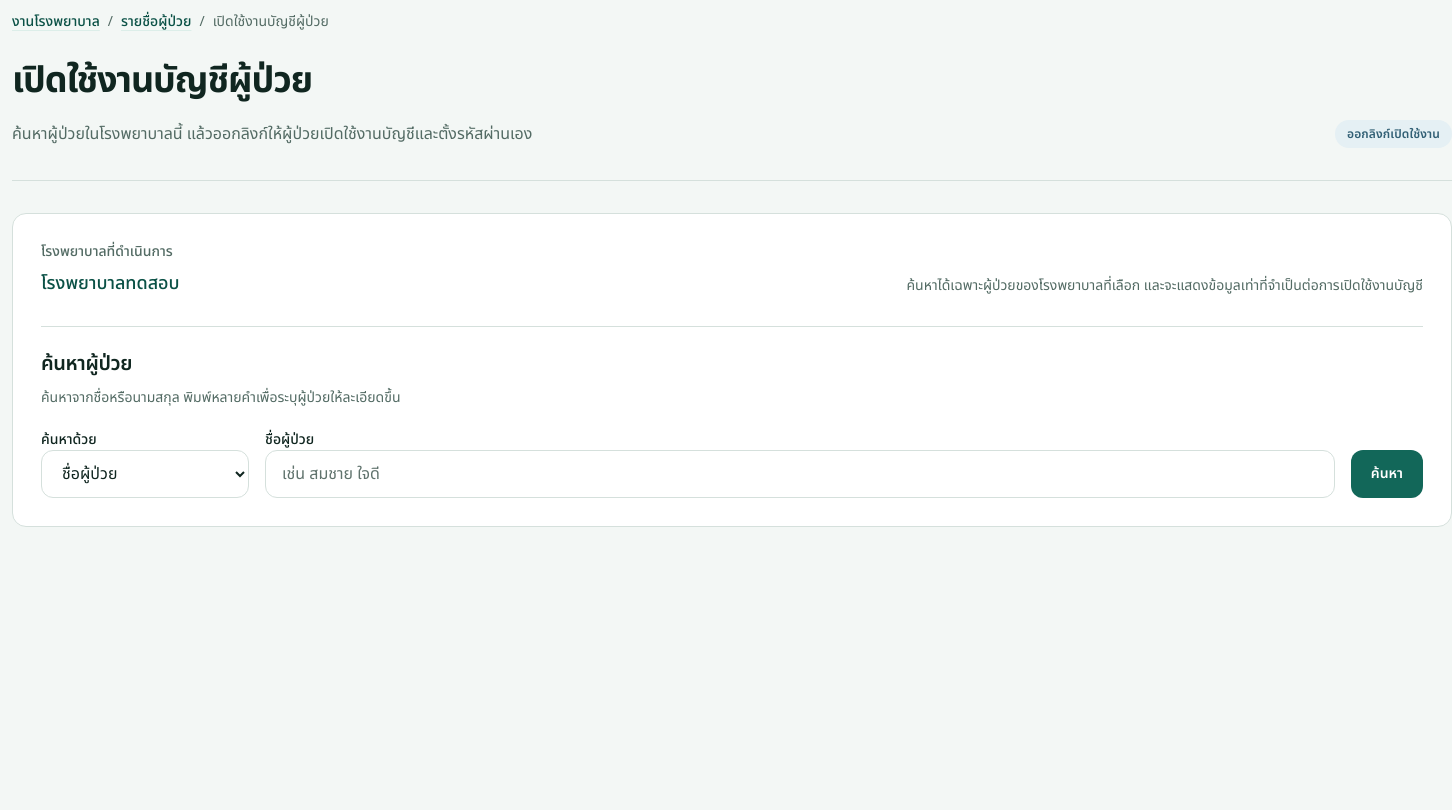
it: Patient activation search and link issuance › turns an unreachable search into a retryable error instead of an empty result
Type "สมชาย" into the field named "value" at coordinates (800, 474), box top-left (265, 450), bottom-right (1335, 498)
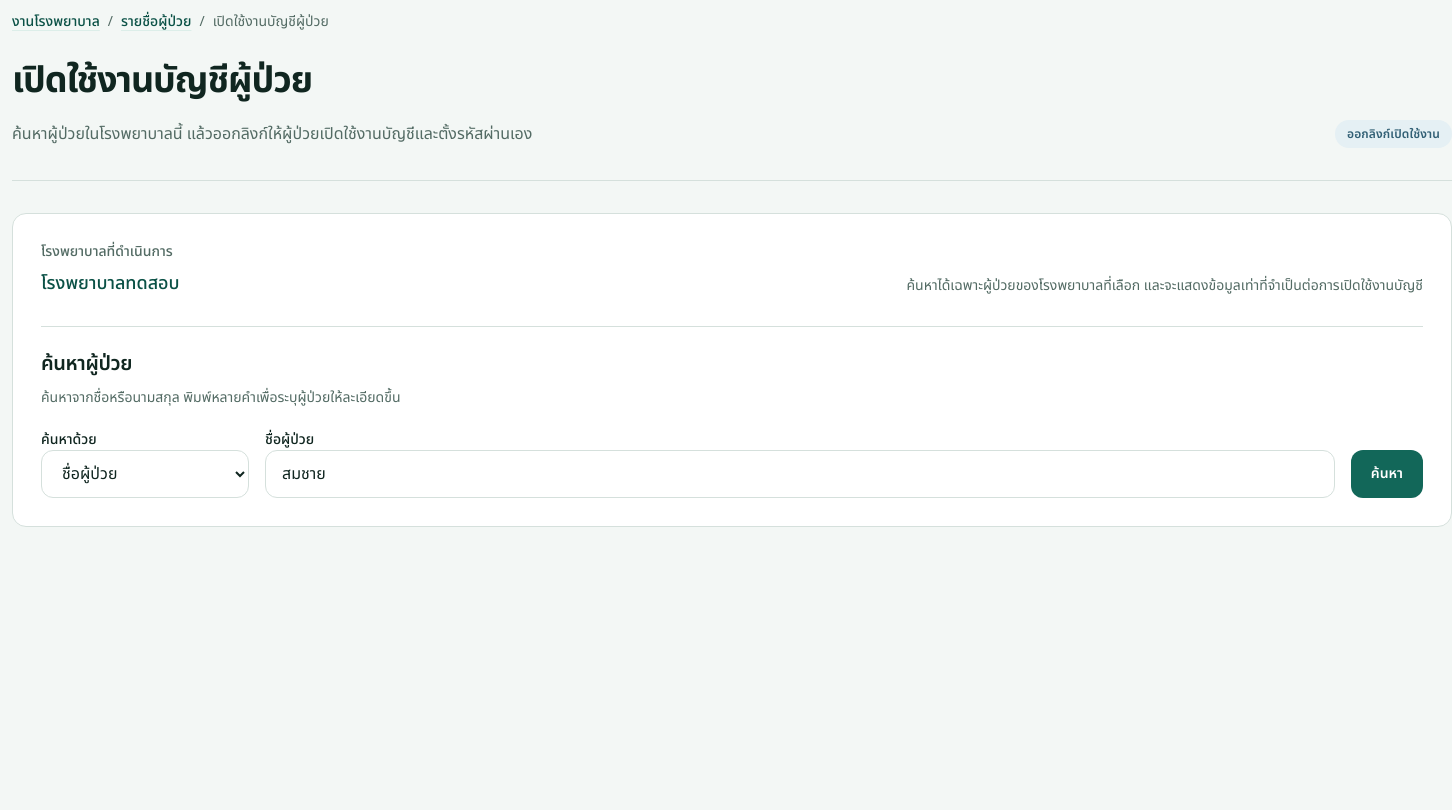
Click the button "ค้นหา" at coordinates (1387, 474), box top-left (1351, 450), bottom-right (1423, 498)
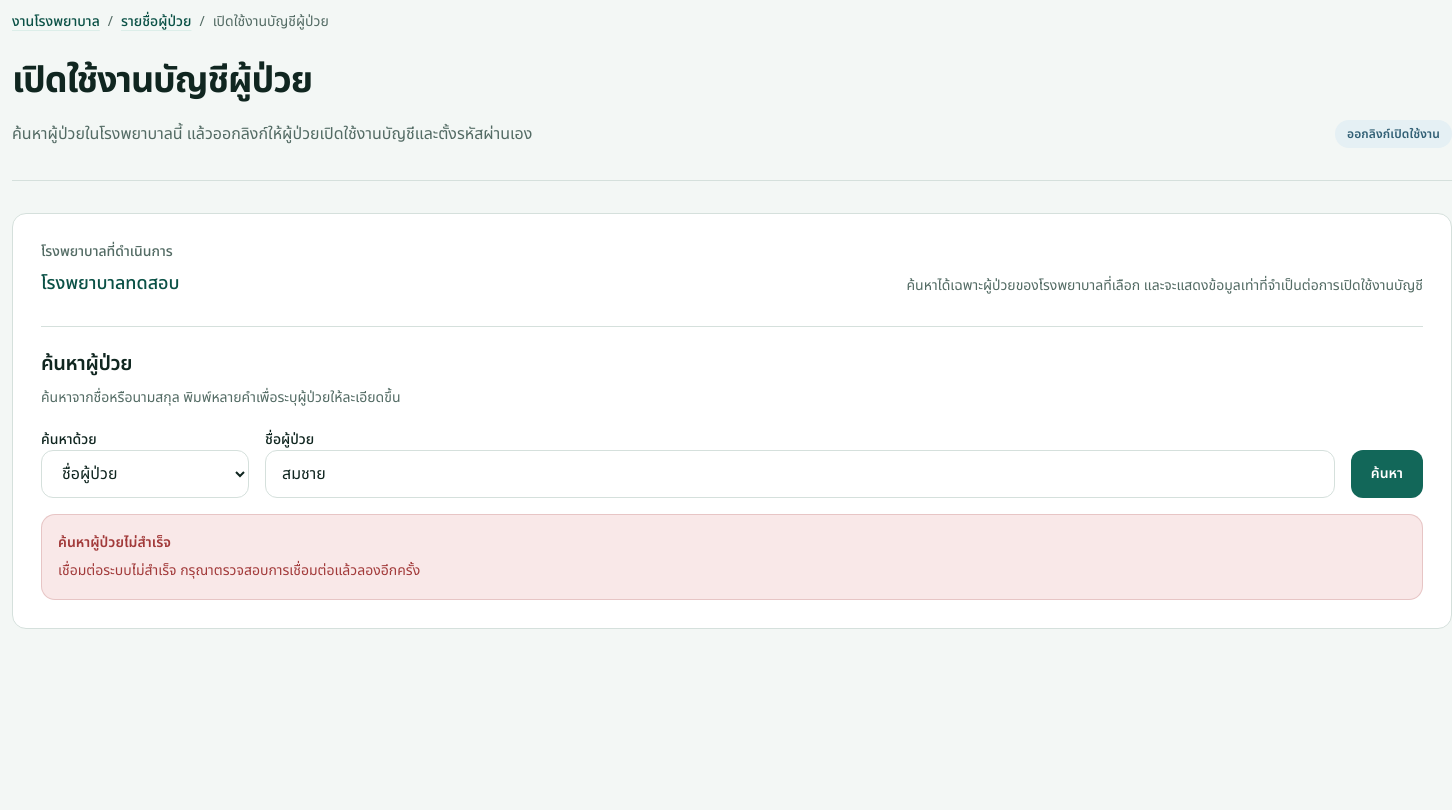
Result: the text "เชื่อมต่อระบบไม่สำเร็จ" is shown at top-left (58, 560), bottom-right (420, 581)
